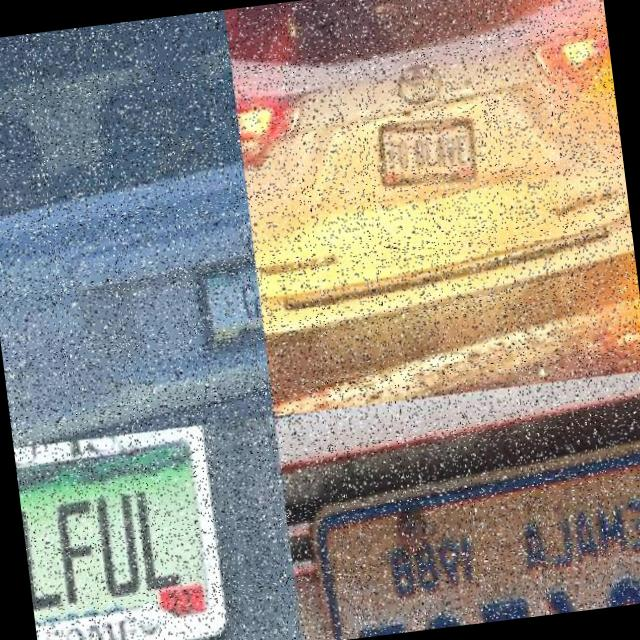LicensePlate: (13, 425, 231, 640), (338, 548, 640, 639), (378, 121, 479, 192), (193, 261, 265, 353)
